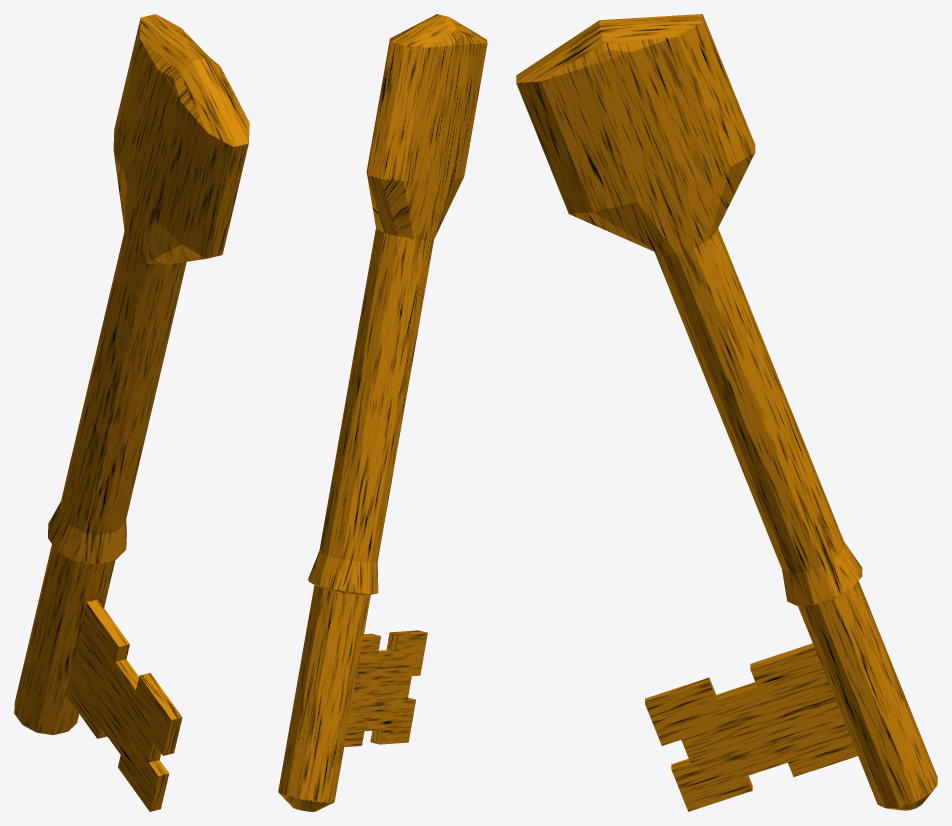
File: wooden_key1.glb
The picture shows the model from 3 angles, left to right: view 1: azimuth 30°, elevation 25°; view 2: azimuth 150°, elevation 25°; view 3: azimuth 270°, elevation 25°; orthographic projection. The views are drawn at different scales.
Parts seen in each view (by area): view 1: Cylinder; view 2: Cylinder; view 3: Cylinder.
Part boxes in pixels (bbox=[...]): Cylinder: bbox=[14, 14, 249, 811]; Cylinder: bbox=[278, 14, 487, 811]; Cylinder: bbox=[516, 14, 937, 811].
Size of the model in its own units: 0.748 by 8.17 by 3.94.
Materials: 1 (1 with a texture image).
